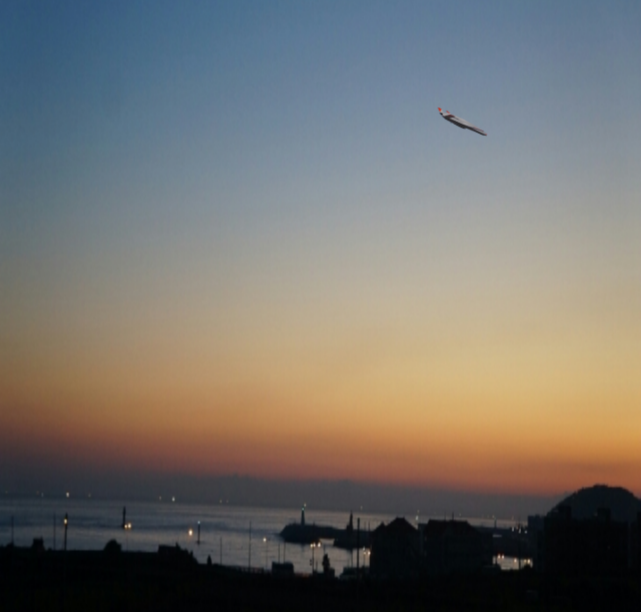military drone: (437, 106, 487, 136)
